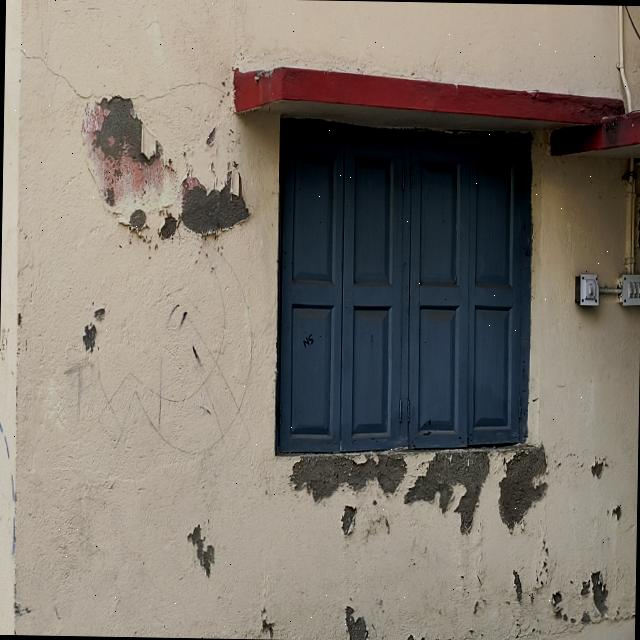peeling: (404, 451, 489, 534), (290, 454, 405, 501), (94, 97, 163, 163), (498, 445, 547, 530), (181, 178, 248, 234), (189, 524, 217, 582), (116, 205, 151, 251), (550, 589, 592, 625), (82, 307, 106, 356), (154, 204, 177, 243), (590, 571, 608, 616), (345, 606, 368, 640), (511, 570, 523, 610), (590, 456, 607, 479), (611, 504, 621, 520)
stain_mould: (601, 111, 640, 149)
